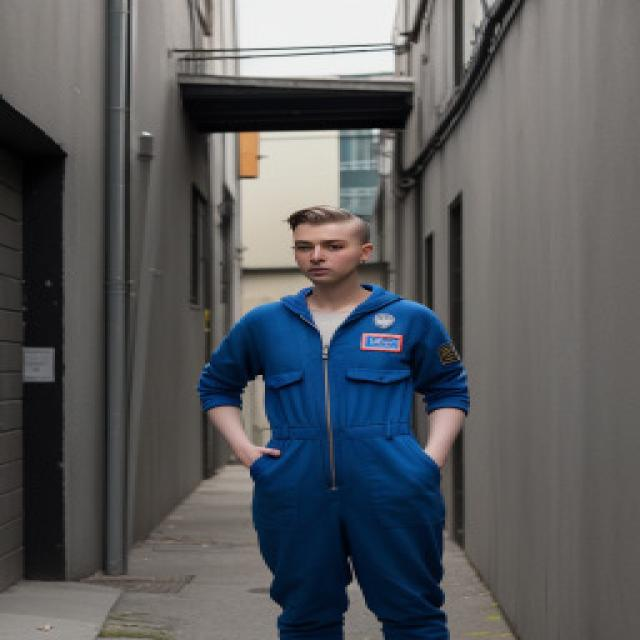Ai human 2: (200, 197, 532, 640)
